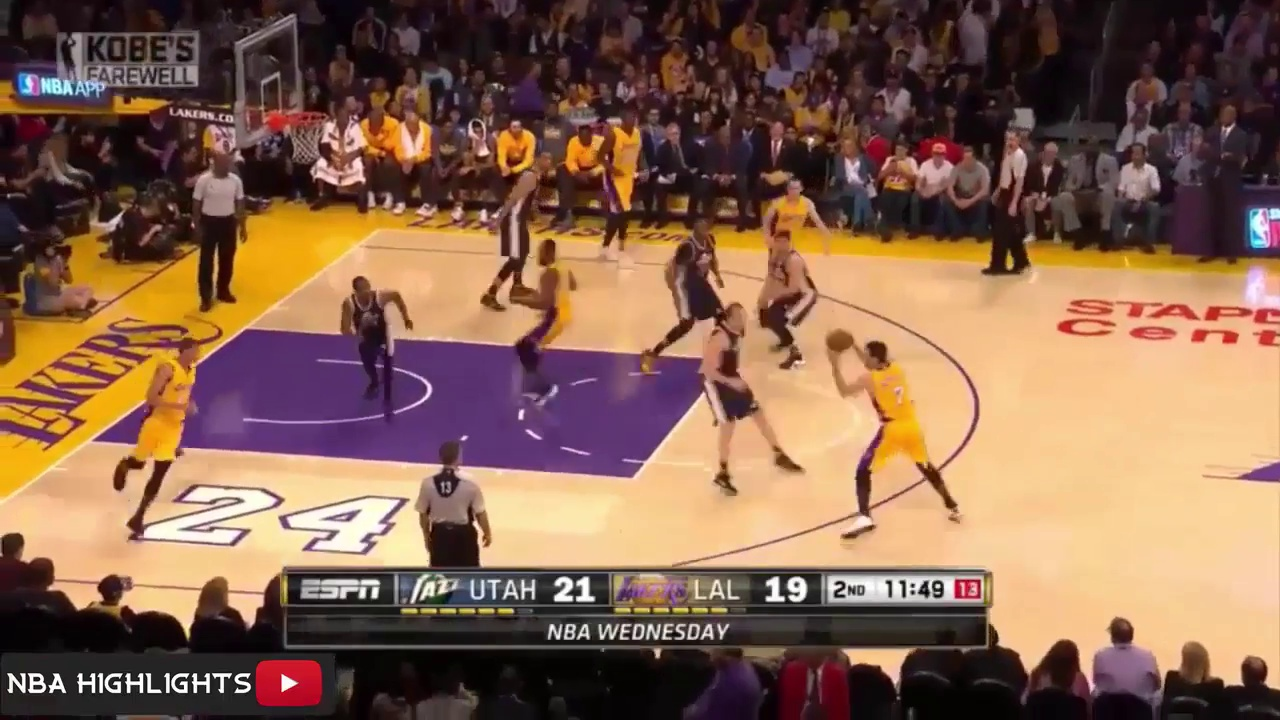jazz: (709, 301, 798, 490), (336, 273, 412, 411), (484, 153, 554, 302), (764, 229, 817, 369), (672, 214, 722, 353)
lakers: (828, 327, 963, 532), (117, 338, 207, 533), (525, 232, 567, 408), (601, 108, 645, 267), (776, 175, 826, 255)
